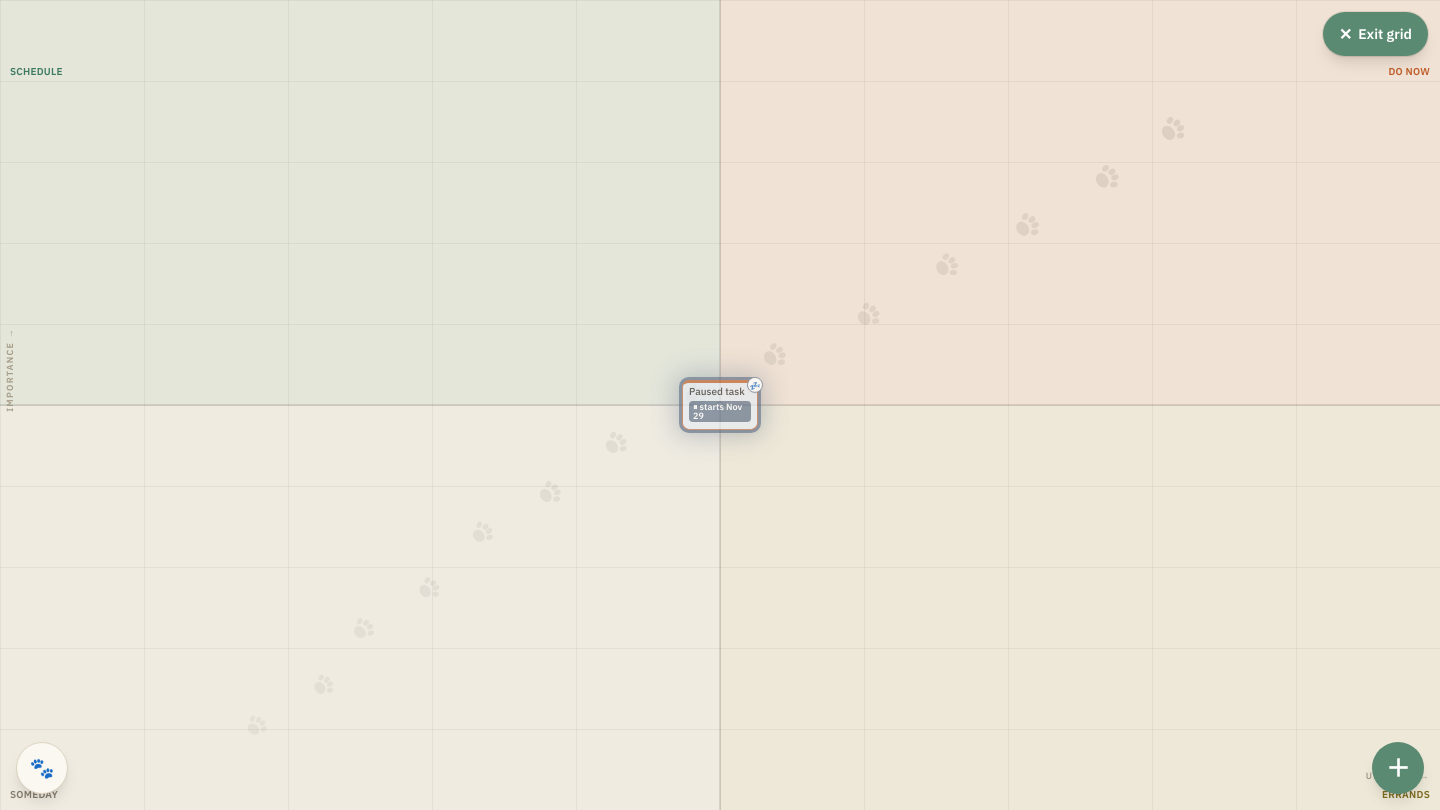
Test: TouchGridSurface task sheet › a paused task sheet offers Schedule + Delete + Move but no Done
The width and height of the screenshot is (1440, 810).
What coordinates should you click on to do the following:
click the button "💤 Paused task ⏸ starts Nov 29"
I would click on:
 (720, 405)
Its box is [682,380,758,430].
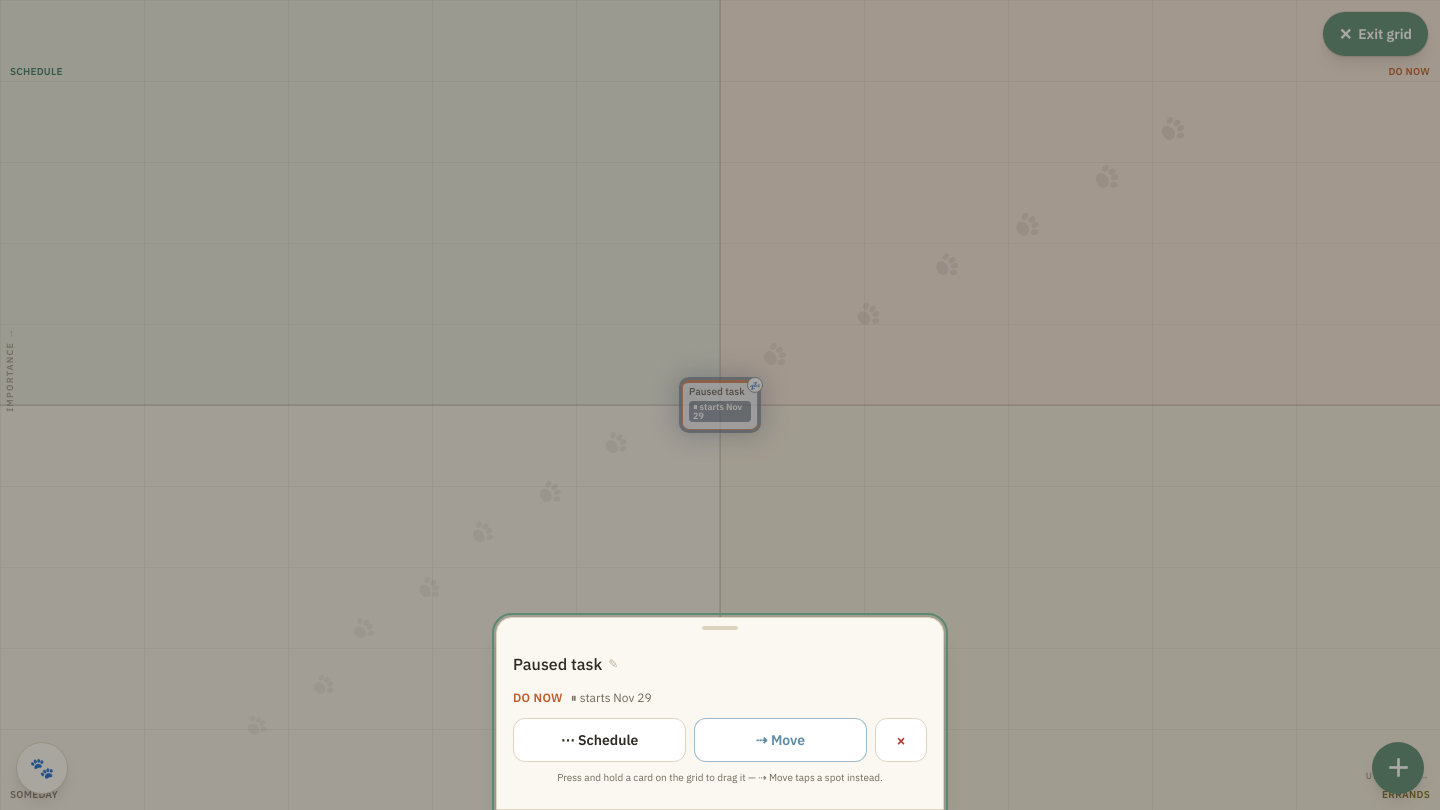
Result: the button "⇢ Move" is shown at [694,718,867,762]
Result: the button "⋯ Schedule" is shown at [513,718,686,762]
Result: the button named "Delete task" is shown at [875,718,927,762]
